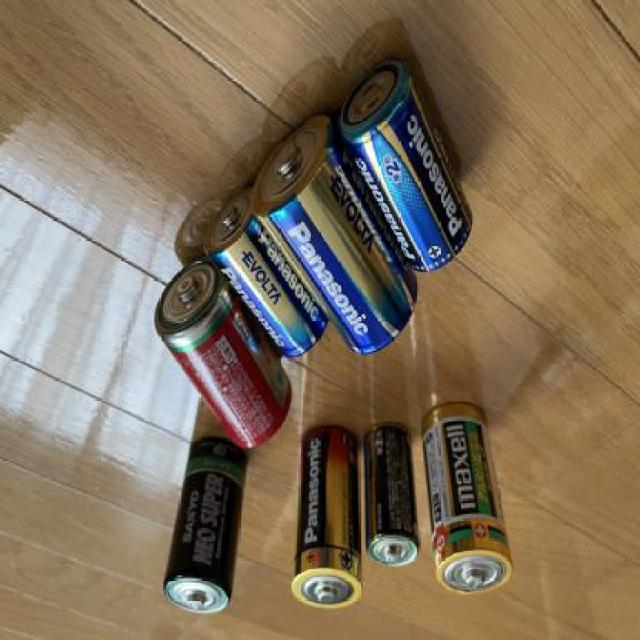hazardous waste: (248, 112, 422, 357), (337, 57, 474, 274), (154, 254, 296, 448), (196, 183, 330, 360), (422, 396, 511, 596), (162, 437, 252, 616), (290, 420, 364, 609), (362, 416, 424, 570)
